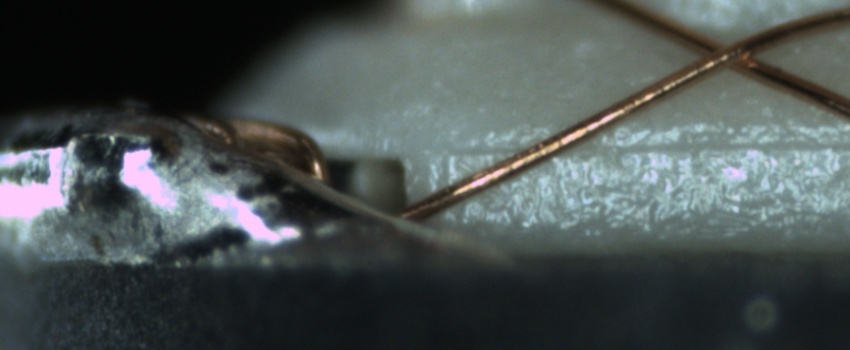CL: (677, 25, 773, 78)
DL: (447, 118, 850, 179)
TE: (180, 102, 339, 199)
